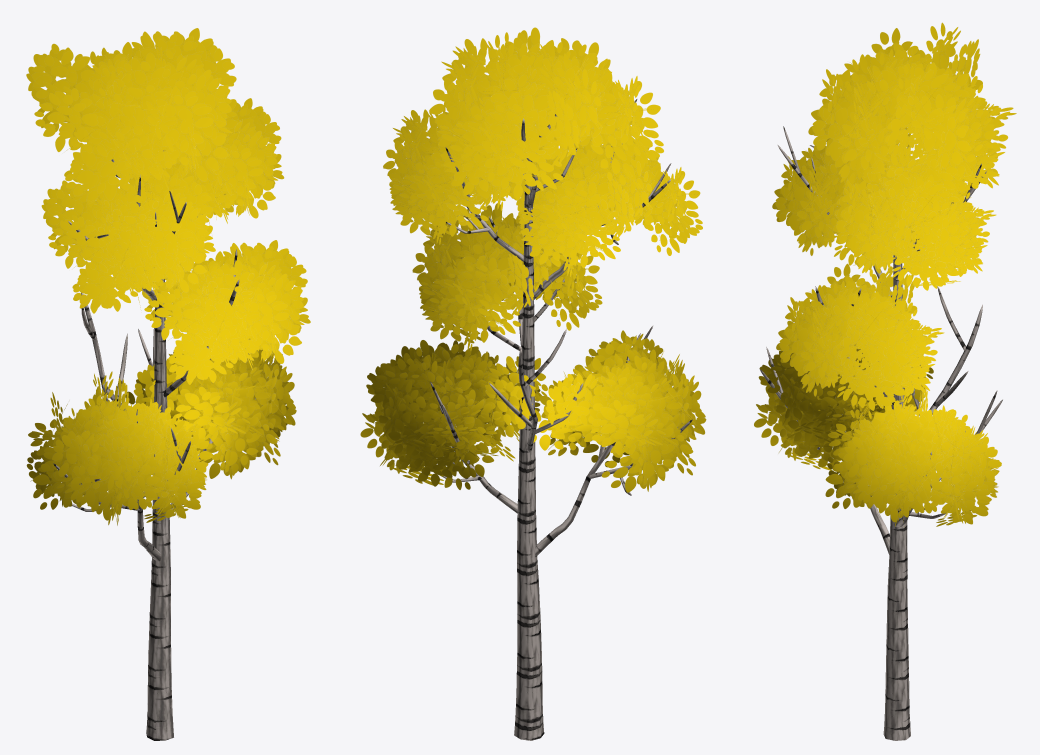
File: BirchTree_2.glb
The picture shows the model from 3 angles, left to right: view 1: azimuth 30°, elevation 25°; view 2: azimuth 150°, elevation 25°; view 3: azimuth 270°, elevation 25°; orthographic projection. The views are drawn at different scales.
Parts seen in each view (by area): view 1: BirchTree_2; view 2: BirchTree_2; view 3: BirchTree_2.
Boxes of the visible parts, <box> form: BirchTree_2: <box>26,28,310,740</box>; BirchTree_2: <box>360,27,706,740</box>; BirchTree_2: <box>754,22,1016,740</box>.
Bounding box in the file's own units: 3.35 × 7.57 × 2.81.
2 materials, 2 textured.
